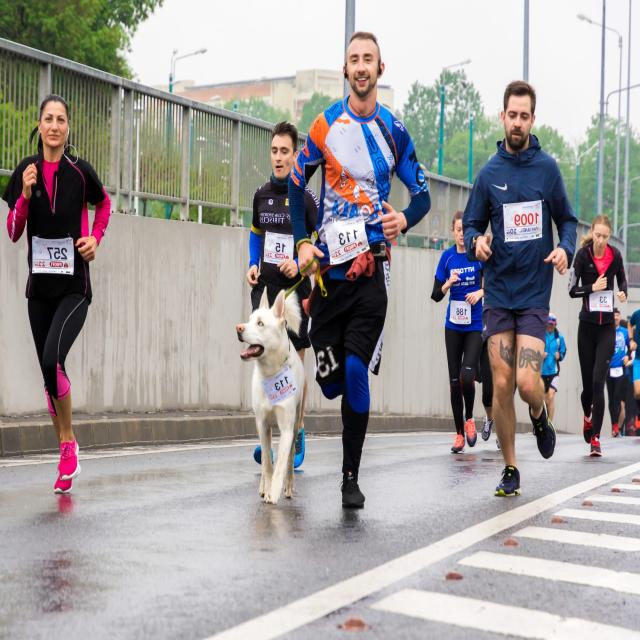adult: (293, 27, 433, 511), (464, 77, 575, 497), (7, 96, 110, 500), (568, 212, 629, 457), (430, 209, 484, 458), (247, 121, 314, 312), (606, 306, 629, 434), (540, 312, 566, 421)
